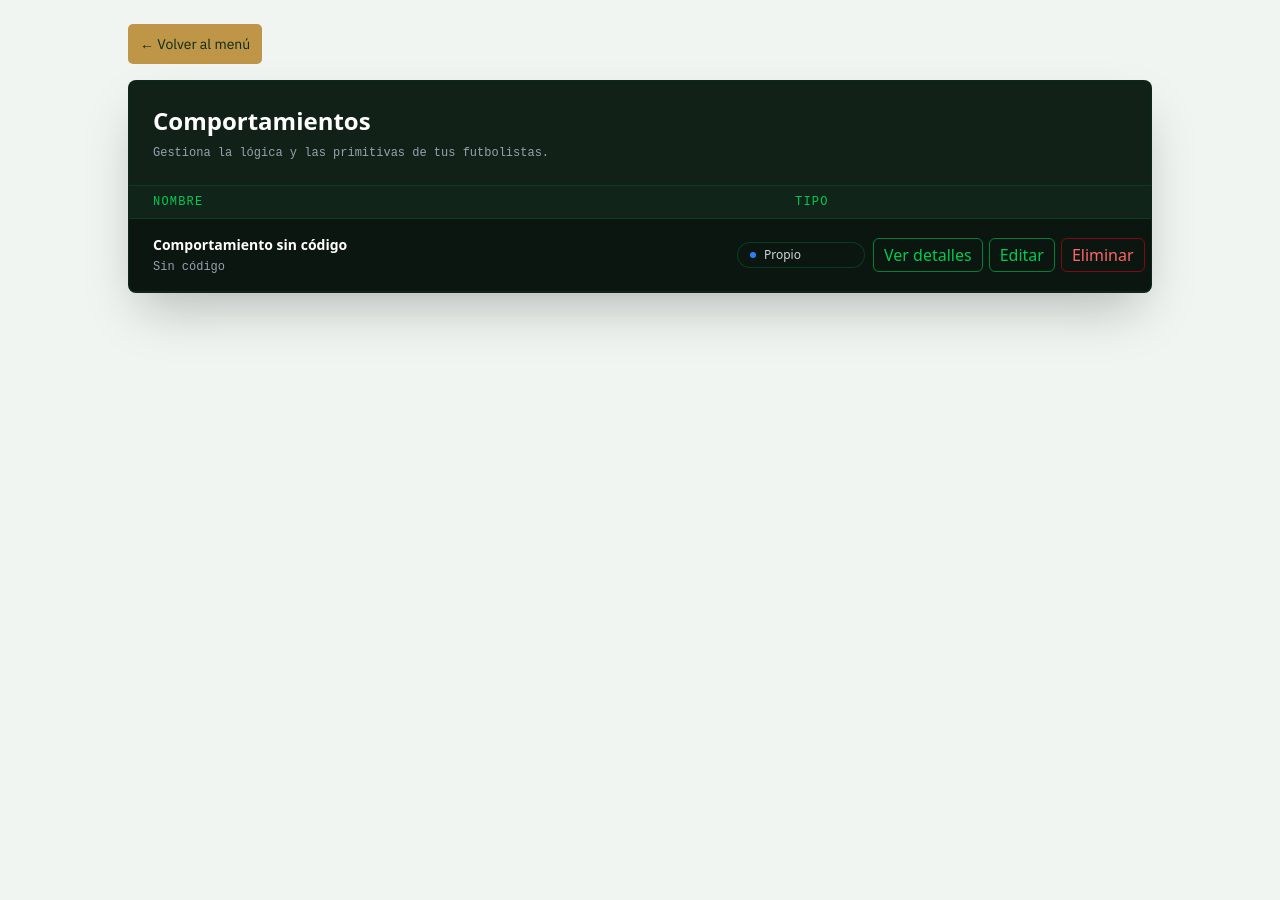
BehaviorPage › Debe mostrar "Sin código" cuando el comportamiento no tiene código
Check: the heading "Comportamiento sin código" is shown, box left=153, top=235, right=347, bottom=254
Click the button "Ver detalles" at (928, 255), box left=873, top=238, right=983, bottom=272
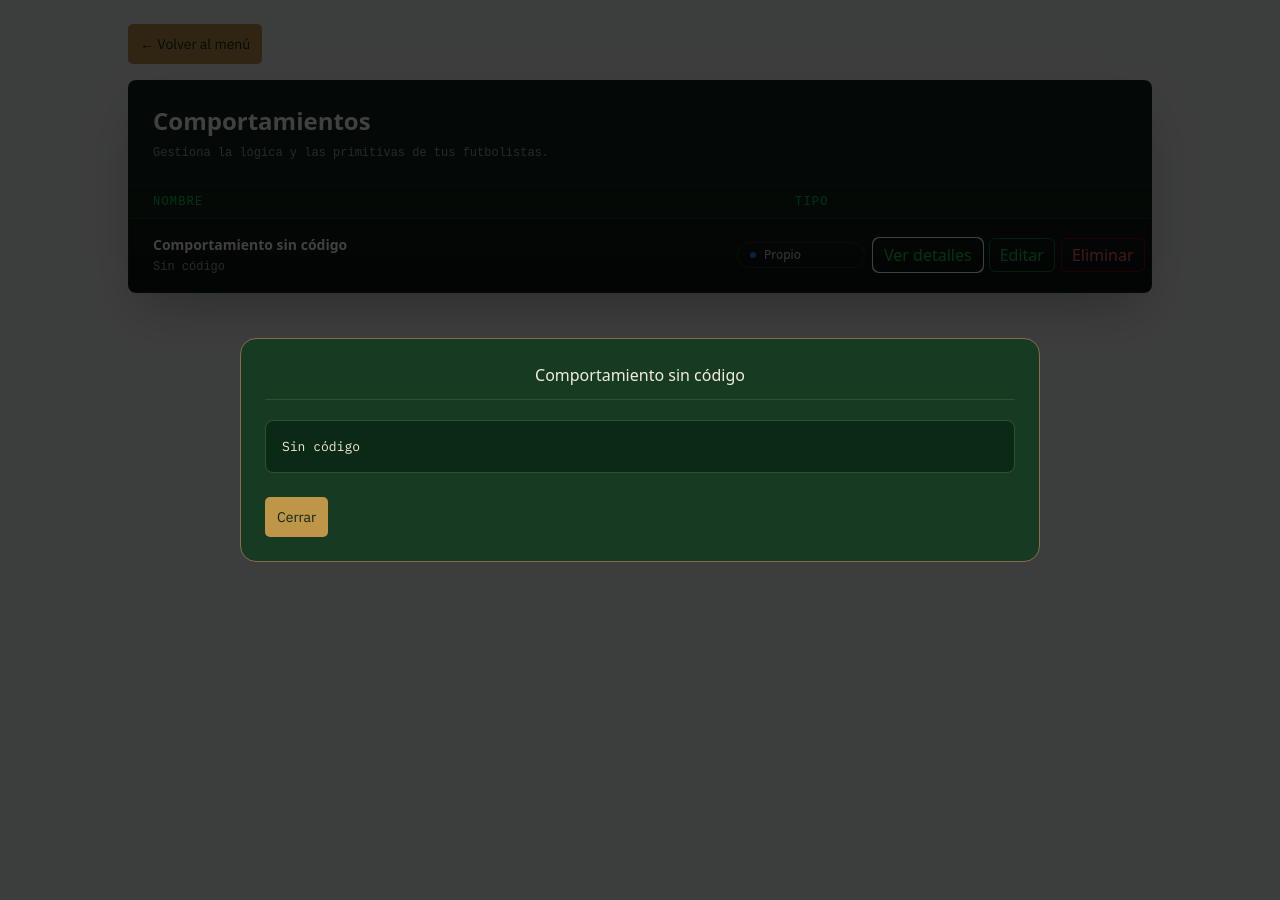
Check: the text "Sin código" is shown, box left=265, top=420, right=1015, bottom=473
